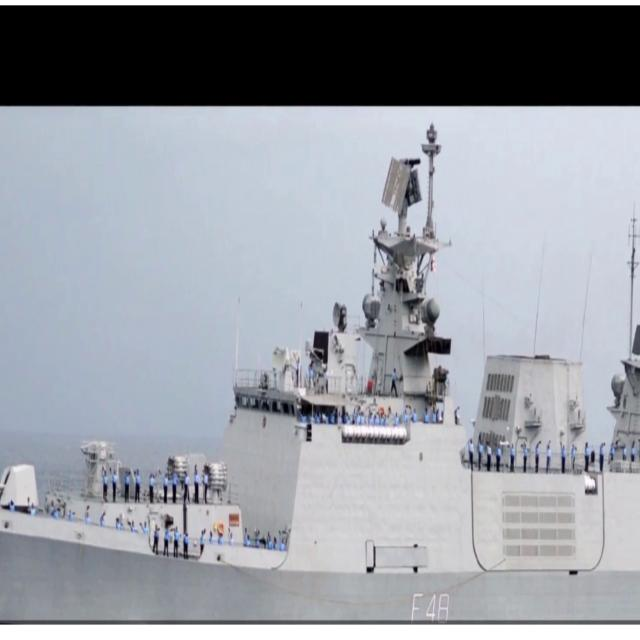OCR: (405, 586, 458, 623)
